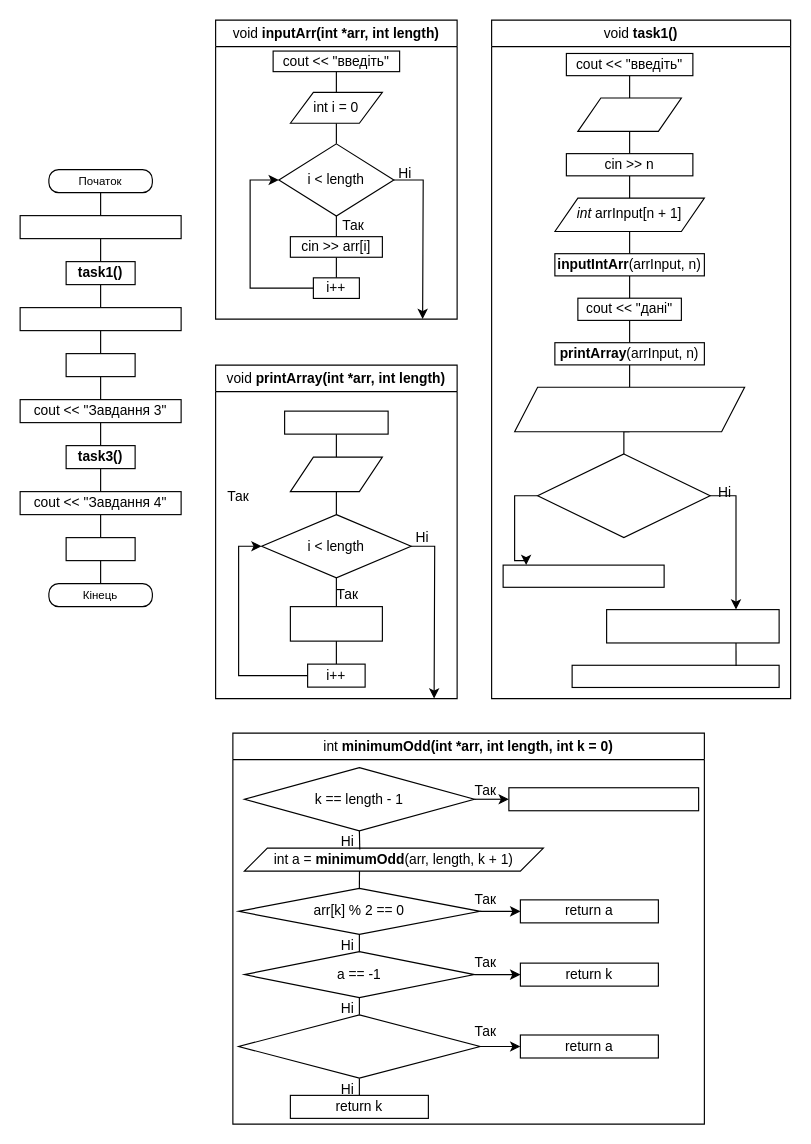
Some shapes in this 811 by 1144 pixel diagram are drawn without their labels. Each missing label, with the centre of its shape:
arr[a] < arr[k]: point (358, 1046)
cout << " індекс: " << minInput: point (675, 675)
cout << "nein, Shtephan": point (583, 575)
cout << "Завдання 1": point (100, 226)
cout << "Завдання 2": point (100, 318)
cout << "найменше..." << arrInput[minInput]: point (692, 625)
cout << arr[0]: point (335, 422)
cout << arr[i]: point (335, 623)
int i = 1: point (335, 474)
int minInput = minimumOdd (arrInput, n): point (629, 409)
int n = 0: point (629, 114)
minInput == -1: point (623, 495)
return arr[k] % 2 != 0 ? k : -1: point (603, 799)
task2(): point (100, 364)
task4(): point (100, 548)
